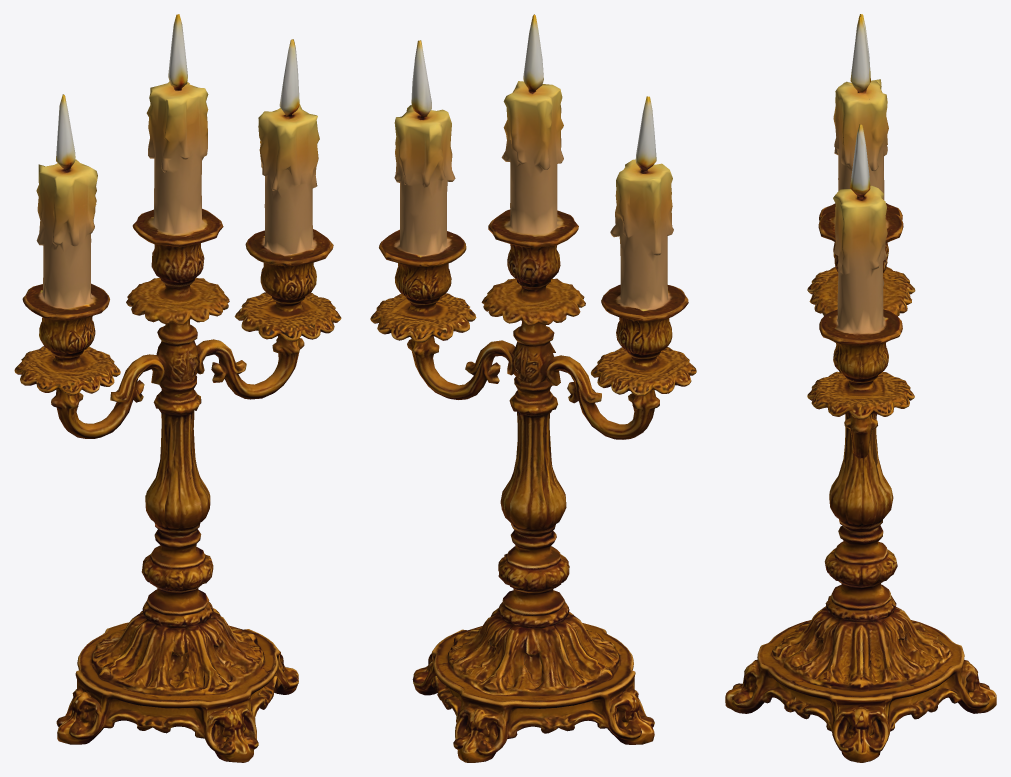
Rendered from candelabra.glb.
3 views of the same model, side by side, from view 1: azimuth 30°, elevation 25°; view 2: azimuth 150°, elevation 25°; view 3: azimuth 270°, elevation 25° (orthographic).
Parts seen in each view (by area): view 1: tripo_node_df682e78-6574-4568-b6a4-5324dcda1abf_0; view 2: tripo_node_df682e78-6574-4568-b6a4-5324dcda1abf_0; view 3: tripo_node_df682e78-6574-4568-b6a4-5324dcda1abf_0.
Boxes of the visible parts, box(x1,y1,x2,y2) form: tripo_node_df682e78-6574-4568-b6a4-5324dcda1abf_0: box(14, 14, 341, 762); tripo_node_df682e78-6574-4568-b6a4-5324dcda1abf_0: box(370, 14, 696, 762); tripo_node_df682e78-6574-4568-b6a4-5324dcda1abf_0: box(725, 14, 996, 762).
Bounding box in the file's own units: 0.4669 × 1 × 0.3562.
Materials: 1 (1 with a texture image).
